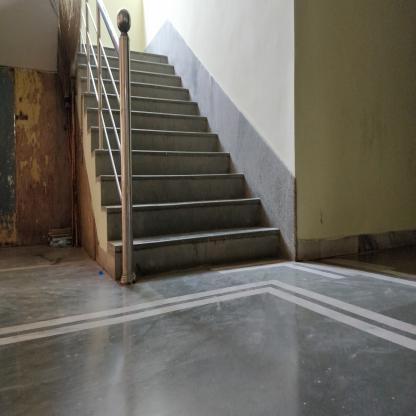stairs: (138, 112, 207, 283)
